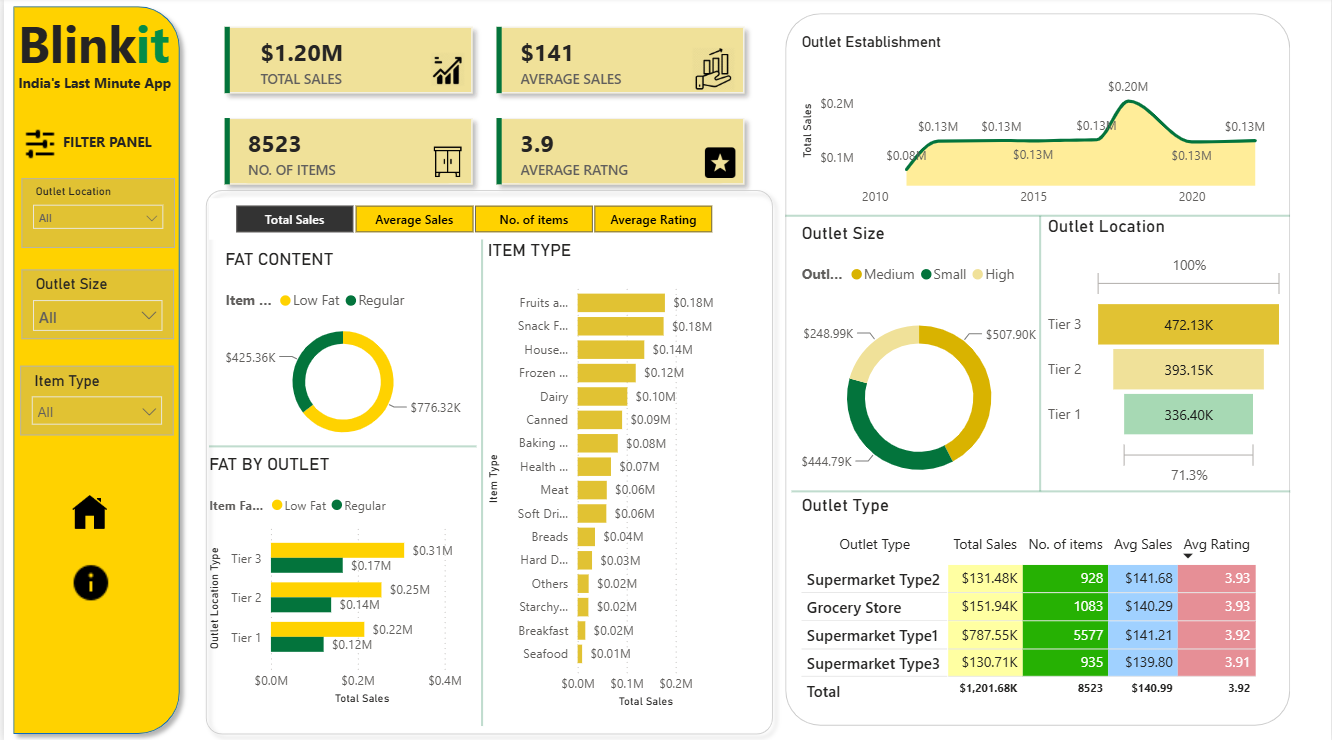

What the dashboard file says about the page in this screenshot:
{"tool":"powerbi","page":{"name":"Home","canvas":[1280,720],"ordinal":0},"visuals":[{"type":"shape","box":[0,0,178.6,720.2],"z":0},{"type":"textbox","box":[0,68.8,174.9,31.8],"z":1000},{"type":"cardVisual","fields":{"Data":["BlinkIT Grocery Data.Total Sales","BlinkIT Grocery Data.Average Sales","BlinkIT Grocery Data.No. of items","BlinkIT Grocery Data.Average Rating"]},"box":[178.6,0,571.9,211.1],"z":2000},{"type":"textbox","box":[8.1,6.8,200.5,79.5],"z":3000},{"type":"shape","box":[185.8,177.3,565.4,543.4],"z":4000},{"type":"donutChart","title":"FAT CONTENT","fields":{"Y":["BlinkIT Grocery Data.Total Sales"],"Category":["BlinkIT Grocery Data.Item Fat Content"]},"box":[208.6,242.9,237.4,197.6],"z":5000},{"type":"slicer","fields":{"Values":["Metrics.Metrics"]},"box":[198.1,193.7,509.8,40.1],"z":6000},{"type":"clusteredBarChart","title":"FAT BY OUTLET","fields":{"Y":["BlinkIT Grocery Data.Total Sales"],"Category":["BlinkIT Grocery Data.Outlet Location Type"],"Series":["BlinkIT Grocery Data.Item Fat Content"]},"box":[193,440.4,263,247.3],"z":7000},{"type":"shape","box":[197.9,427.1,258.2,13.3],"z":8000},{"type":"barChart","title":"ITEM TYPE","fields":{"Y":["BlinkIT Grocery Data.Total Sales"],"Category":["BlinkIT Grocery Data.Item Type"]},"box":[462.1,234,245.6,456.9],"z":9000},{"type":"shape","box":[754,15.7,487.4,687.7],"z":10000},{"type":"image","box":[667.2,142.4,48.3,35],"z":11000},{"type":"image","box":[653.9,48.3,61.5,42.2],"z":12000},{"type":"image","box":[411.4,142.4,33.8,32.6],"z":13000},{"type":"image","box":[411.9,52.8,33.9,33.9],"z":14000},{"type":"lineChart","title":"Outlet Establishment ","fields":{"Y":["BlinkIT Grocery Data.Total Sales"],"Category":["BlinkIT Grocery Data.Outlet Establishment Year"]},"box":[764.9,35,460.9,176.1],"z":15000},{"type":"shape","box":[417.4,233.8,87.9,469.8],"z":16000},{"type":"shape","box":[754,188.2,487.4,45.8],"z":17000},{"type":"donutChart","title":"Outlet Size","fields":{"Y":["BlinkIT Grocery Data.Total Sales"],"Category":["BlinkIT Grocery Data.Outlet Size"]},"box":[765.5,216.8,237.1,279.1],"z":18000},{"type":"funnel","title":"Outlet Location ","fields":{"Category":["BlinkIT Grocery Data.Outlet Location Type"],"Y":["Sum(BlinkIT Grocery Data.Sales)"]},"box":[1003,211.5,238.2,266],"z":19000},{"type":"shape","box":[760.1,458.4,481.4,37.4],"z":20000},{"type":"shape","box":[962.9,211.5,74.6,266],"z":21000},{"type":"pivotTable","title":"Outlet Type","fields":{"Rows":["BlinkIT Grocery Data.Outlet Type"],"Values":["BlinkIT Grocery Data.Total Sales","BlinkIT Grocery Data.No. of items","BlinkIT Grocery Data.Average Sales","BlinkIT Grocery Data.Average Rating"]},"box":[764.9,480.2,460.9,207.5],"z":22000},{"type":"slicer","fields":{"Values":["BlinkIT Grocery Data.Outlet Location Type"]},"box":[17.4,174.4,147.7,67.4],"z":23000},{"type":"slicer","fields":{"Values":["BlinkIT Grocery Data.Item Type"]},"box":[16.3,355.8,147.7,67.4],"z":24000},{"type":"slicer","fields":{"Values":["BlinkIT Grocery Data.Outlet Size"]},"box":[17.4,262.8,147,67],"z":25000},{"type":"textbox","box":[51.9,125.5,111,35],"z":25001},{"type":"image","box":[56.7,480.2,51.9,35],"z":25002},{"type":"image","box":[51.9,544.1,63.9,42.2],"z":25003},{"type":"image","box":[0,125.5,70,32.6],"z":25004}]}

Visuals, with their boxes in screenshot pixels (x1, y1, x2, y2), scaled from the page's 1280x720 canvas onto the 1332x740 screenshot:
shape: <region>0, 0, 186, 739</region>
textbox: <region>0, 71, 182, 103</region>
cardVisual - BlinkIT Grocery Data.Total Sales x BlinkIT Grocery Data.Average Sales: <region>186, 0, 781, 217</region>
textbox: <region>8, 7, 217, 89</region>
shape: <region>193, 182, 782, 739</region>
"FAT CONTENT" donutChart: <region>217, 250, 464, 453</region>
slicer - Metrics.Metrics: <region>206, 199, 737, 240</region>
"FAT BY OUTLET" clusteredBarChart: <region>201, 453, 475, 707</region>
shape: <region>206, 439, 475, 453</region>
"ITEM TYPE" barChart: <region>481, 240, 736, 710</region>
shape: <region>785, 16, 1292, 723</region>
image: <region>694, 146, 745, 182</region>
image: <region>680, 50, 744, 93</region>
image: <region>428, 146, 463, 180</region>
image: <region>429, 54, 464, 89</region>
"Outlet Establishment " lineChart: <region>796, 36, 1276, 217</region>
shape: <region>434, 240, 526, 723</region>
shape: <region>785, 193, 1292, 240</region>
"Outlet Size" donutChart: <region>797, 223, 1043, 510</region>
"Outlet Location " funnel: <region>1044, 217, 1292, 491</region>
shape: <region>791, 471, 1292, 510</region>
shape: <region>1002, 217, 1080, 491</region>
"Outlet Type" pivotTable: <region>796, 494, 1276, 707</region>
slicer - BlinkIT Grocery Data.Outlet Location Type: <region>18, 179, 172, 249</region>
slicer - BlinkIT Grocery Data.Item Type: <region>17, 366, 171, 435</region>
slicer - BlinkIT Grocery Data.Outlet Size: <region>18, 270, 171, 339</region>
textbox: <region>54, 129, 170, 165</region>
image: <region>59, 494, 113, 530</region>
image: <region>54, 559, 121, 603</region>
image: <region>0, 129, 73, 162</region>
